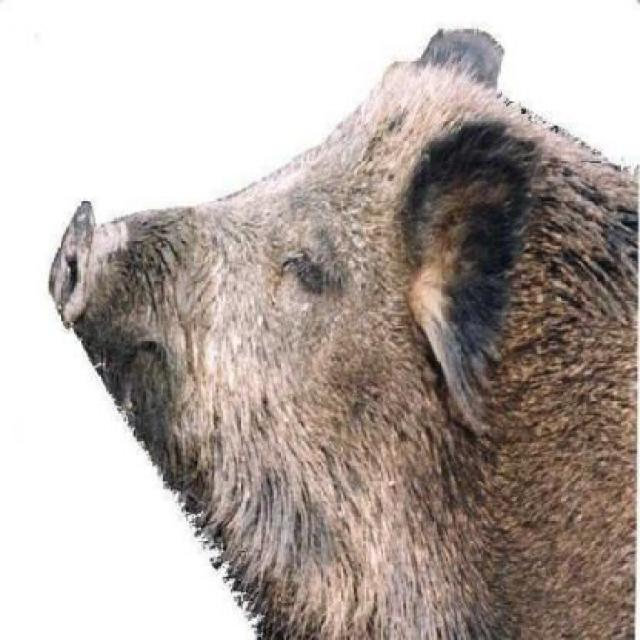WildBoar: (19, 39, 638, 630)
